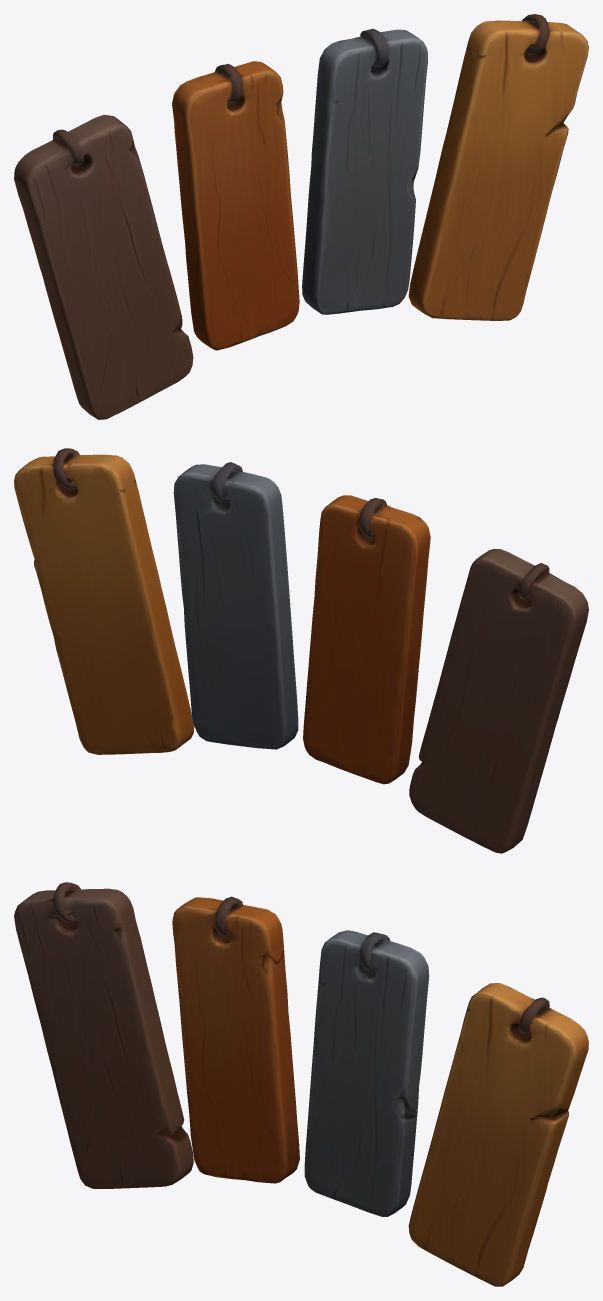
The model's file is facultyoffice_BookmarkSet.glb.
3 renders of one model, top to bottom at view 1: azimuth 30°, elevation 25°; view 2: azimuth 150°, elevation 25°; view 3: azimuth 330°, elevation 25°, orthographic.
Parts seen in each view (by area): view 1: world; view 2: world; view 3: world.
Part boxes in pixels (x1=…): world: x1=14, y1=14, x2=588, y2=419; world: x1=14, y1=448, x2=588, y2=853; world: x1=14, y1=882, x2=588, y2=1286.
Bounding box in the file's own units: 1 × 0.5389 × 0.0701.
Materials: 1 (1 with a texture image).
